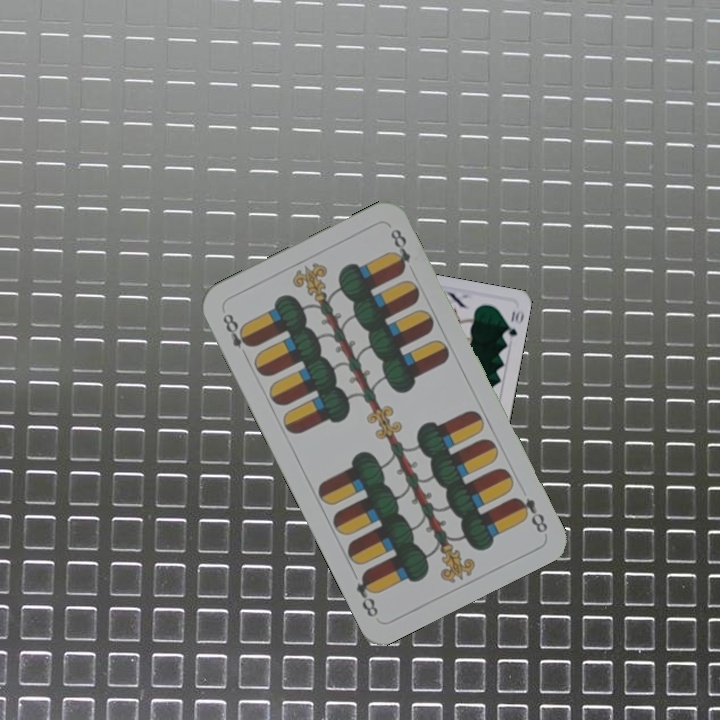E8: (510, 493, 551, 536), (218, 309, 256, 351)
